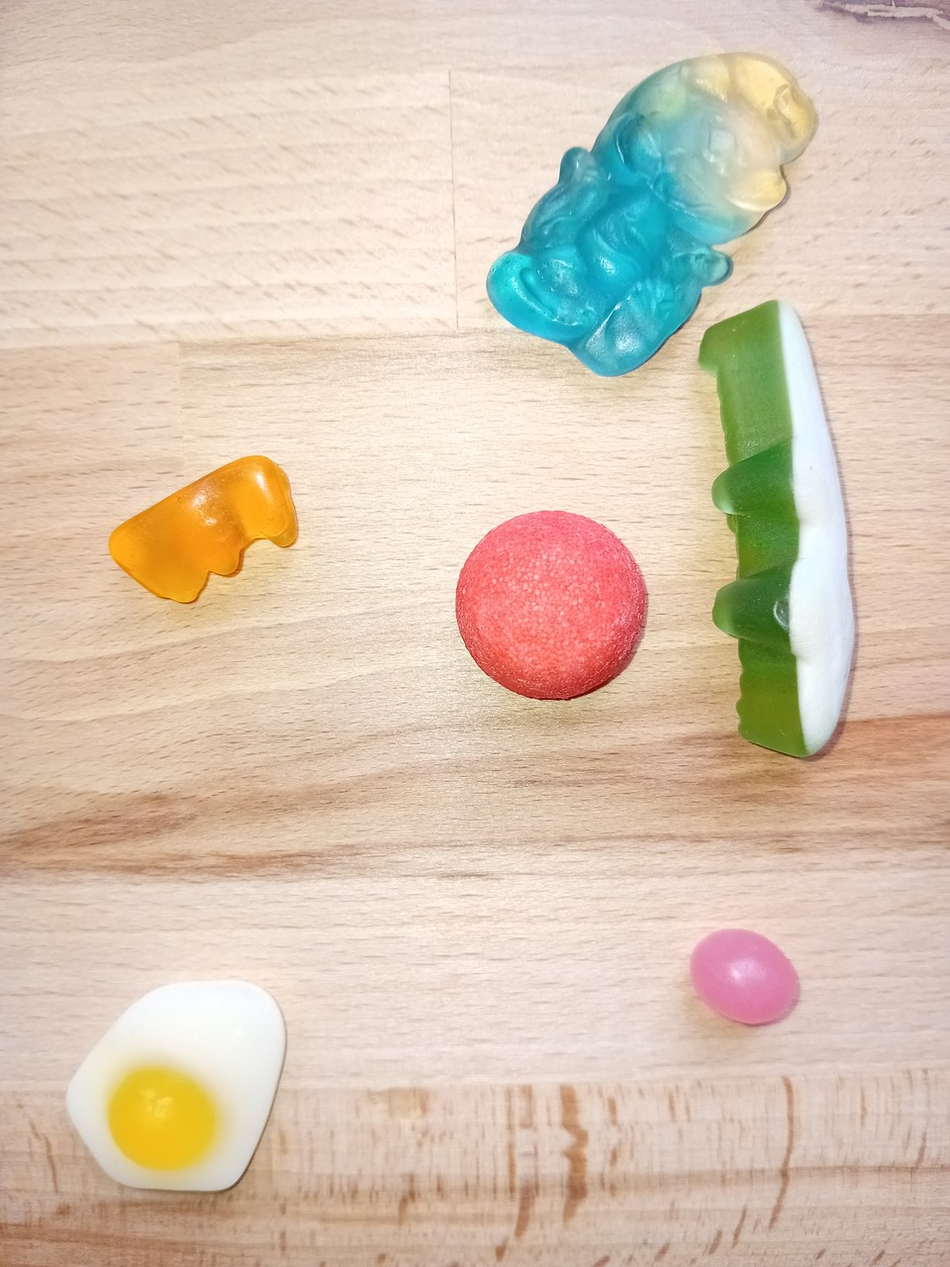crocodile_vert: (698, 290, 858, 768)
dragibus_rose: (684, 925, 802, 1028)
oeuf_oeuf: (61, 959, 291, 1204)
ourson_orangeClair: (101, 446, 306, 610)
schtroumpf_bleu-blanc: (479, 49, 828, 380)
tagada_fraise: (450, 502, 655, 705)
